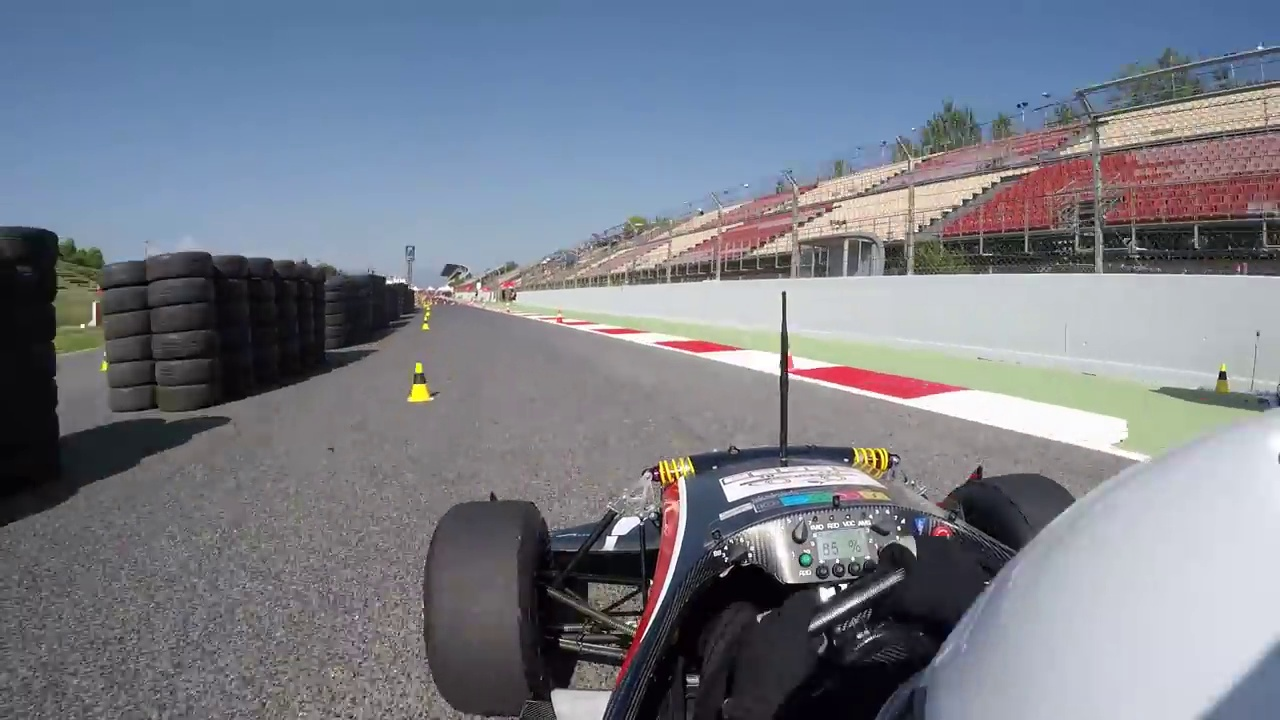Cone: (407, 362, 438, 406)
